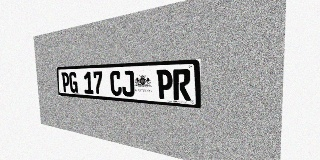1: (83, 71, 93, 94)
7: (92, 71, 103, 95)
C: (110, 71, 122, 96)
G: (69, 72, 78, 93)
J: (121, 70, 134, 97)
P: (156, 69, 173, 100), (61, 72, 70, 92)
R: (173, 69, 191, 101)
